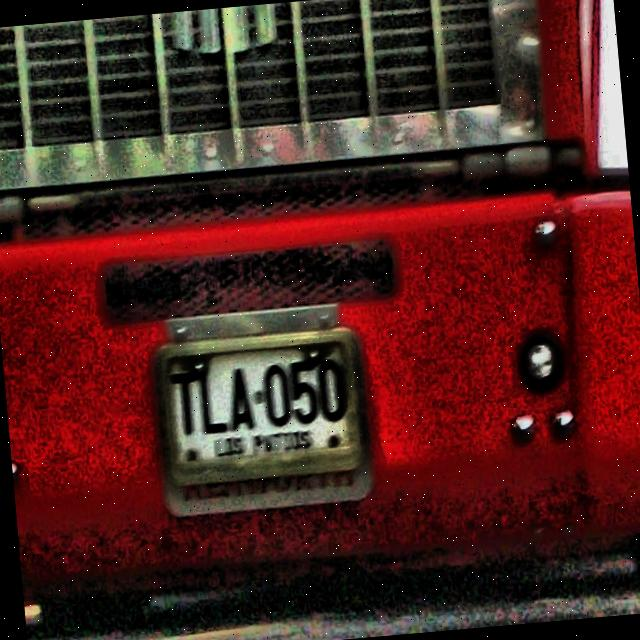plate: (166, 341, 352, 463)
